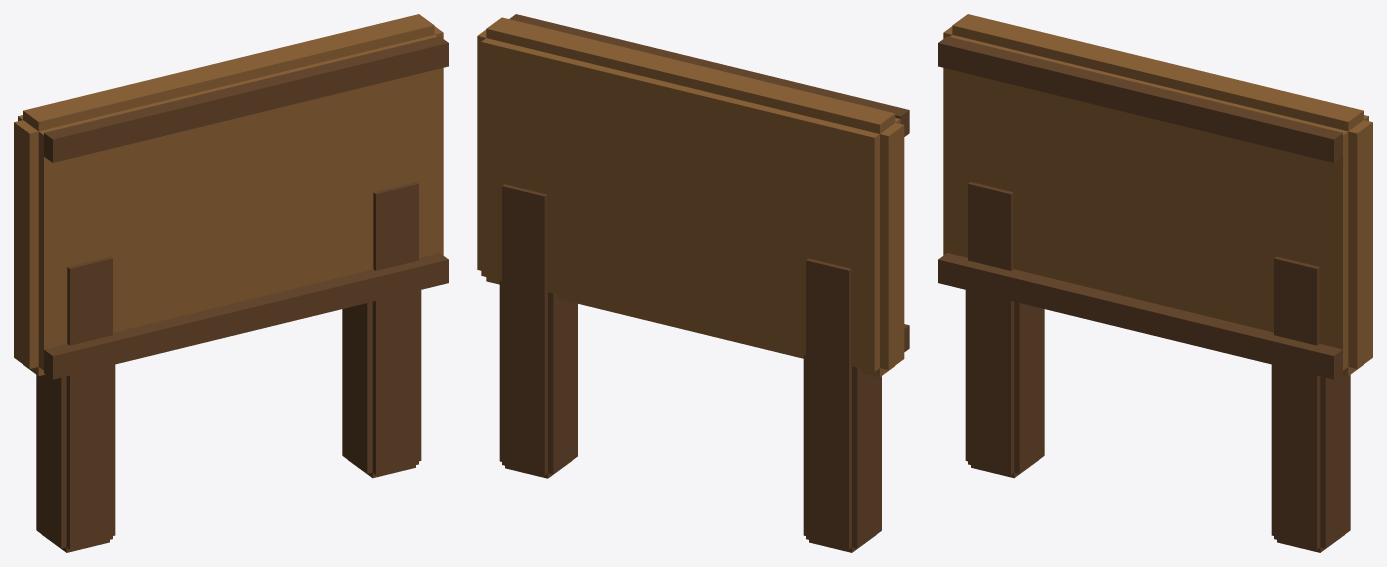
The model's file is sign_v0.glb.
3 views of the same model, side by side, from view 1: azimuth 30°, elevation 25°; view 2: azimuth 150°, elevation 25°; view 3: azimuth 330°, elevation 25° (orthographic).
Parts seen in each view (by area): view 1: sign_v0; view 2: sign_v0; view 3: sign_v0.
Part boxes in pixels (bbox=[...]): sign_v0: bbox=[14, 14, 448, 552]; sign_v0: bbox=[477, 14, 909, 552]; sign_v0: bbox=[938, 14, 1372, 552].
Bounding box in the file's own units: 0.92 × 0.92 × 0.145.
